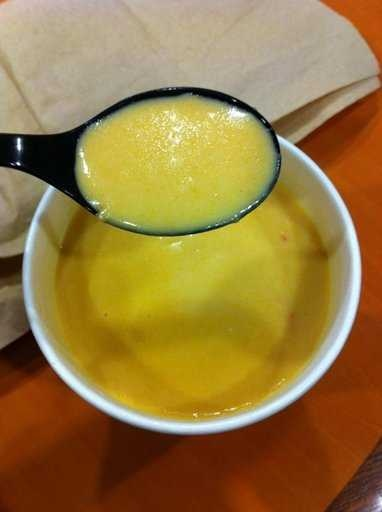soup: (44, 80, 337, 422)
